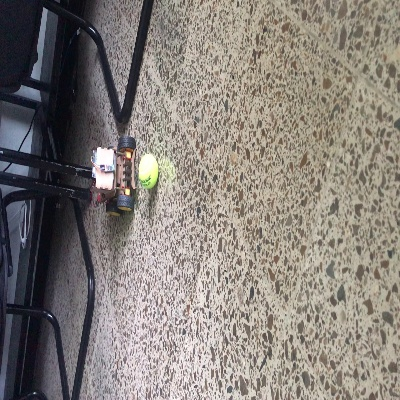Ball: (137, 152, 159, 189)
Robot: (90, 137, 136, 217)
